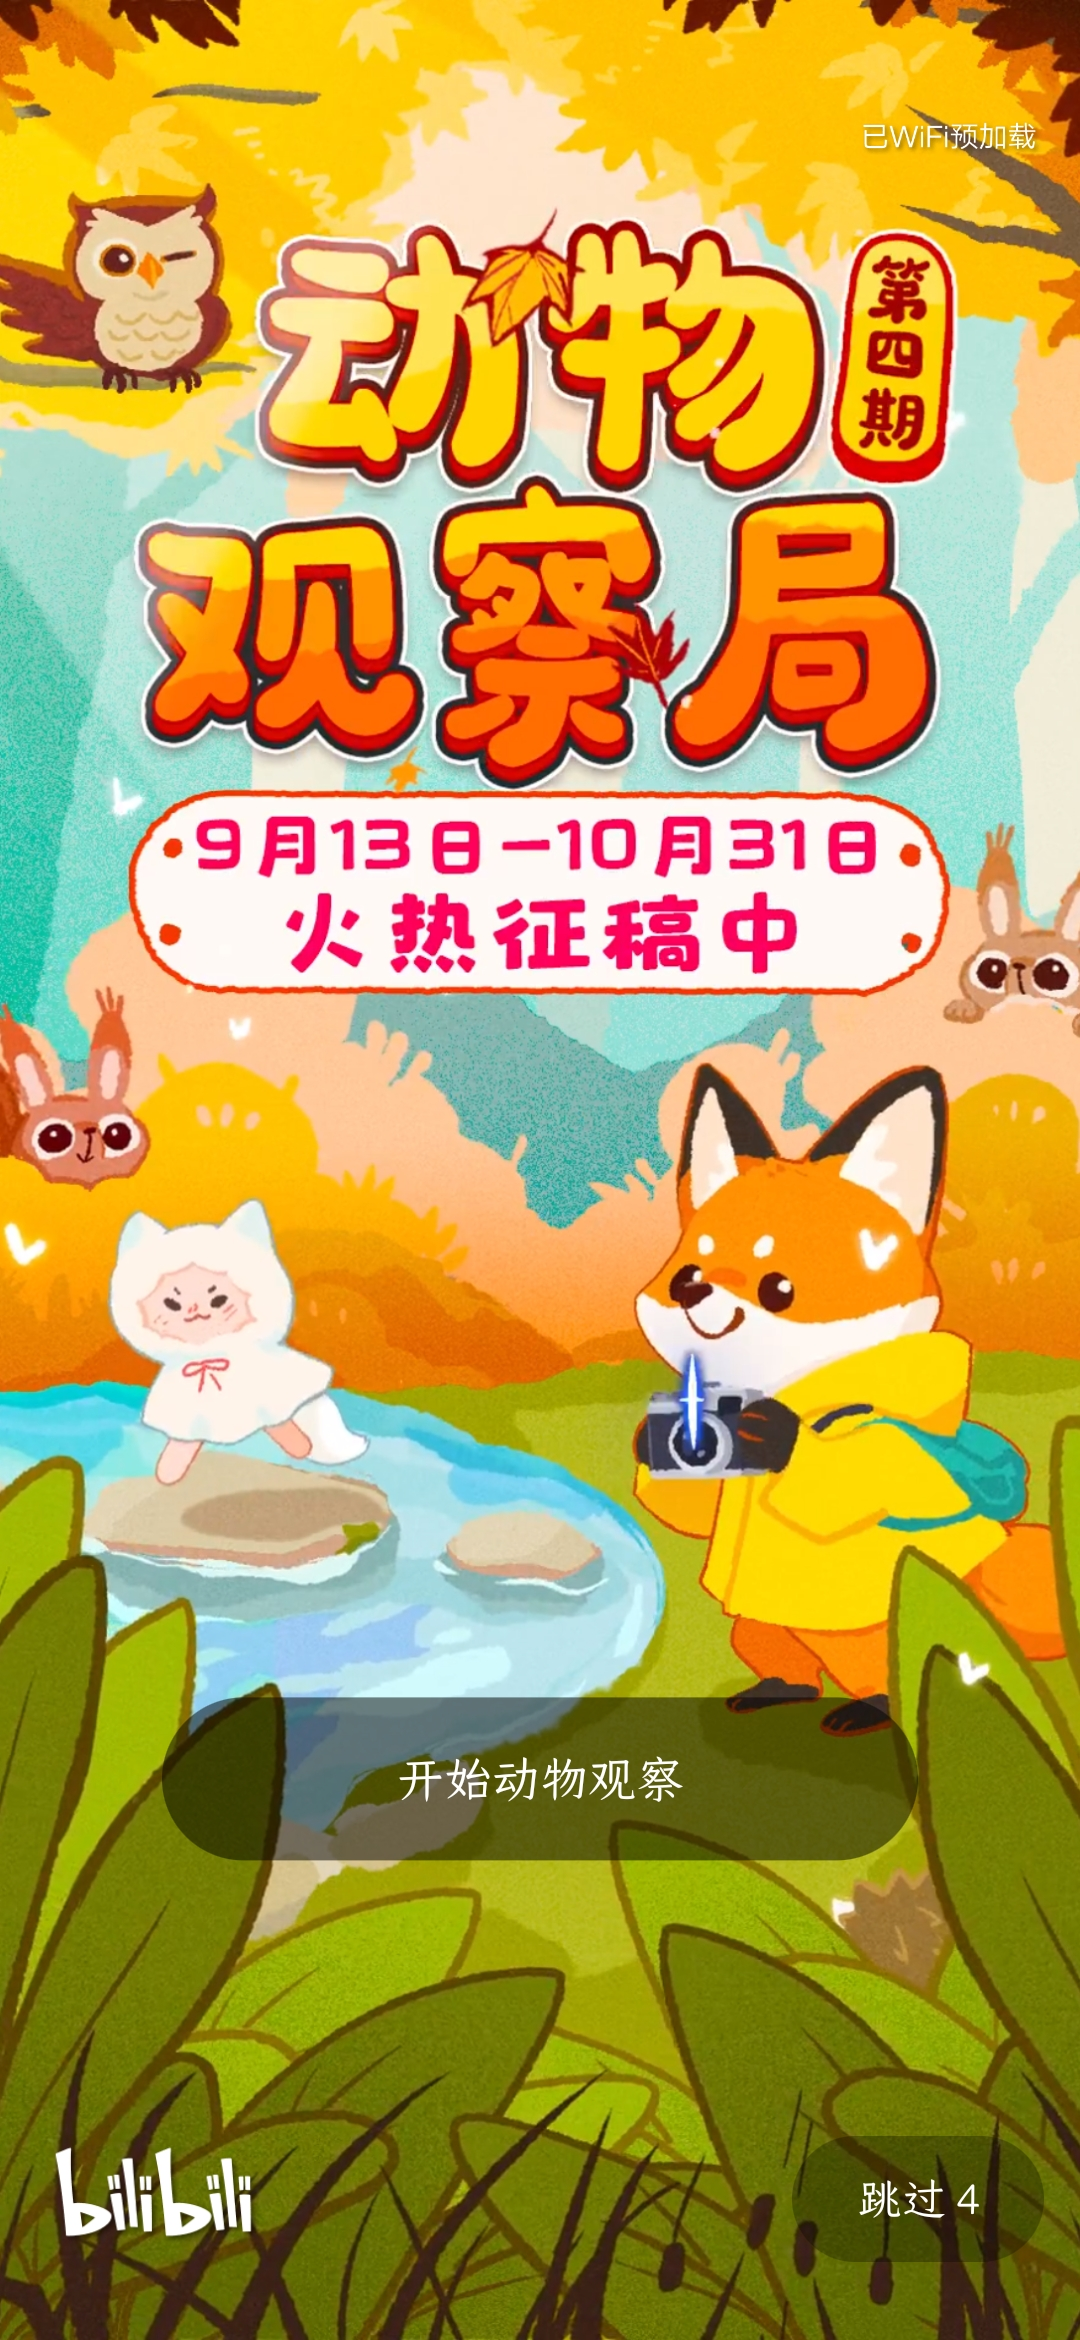skip: (826, 2142, 1004, 2253)
